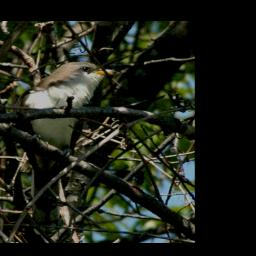Cuckoo: (12, 61, 123, 233)
